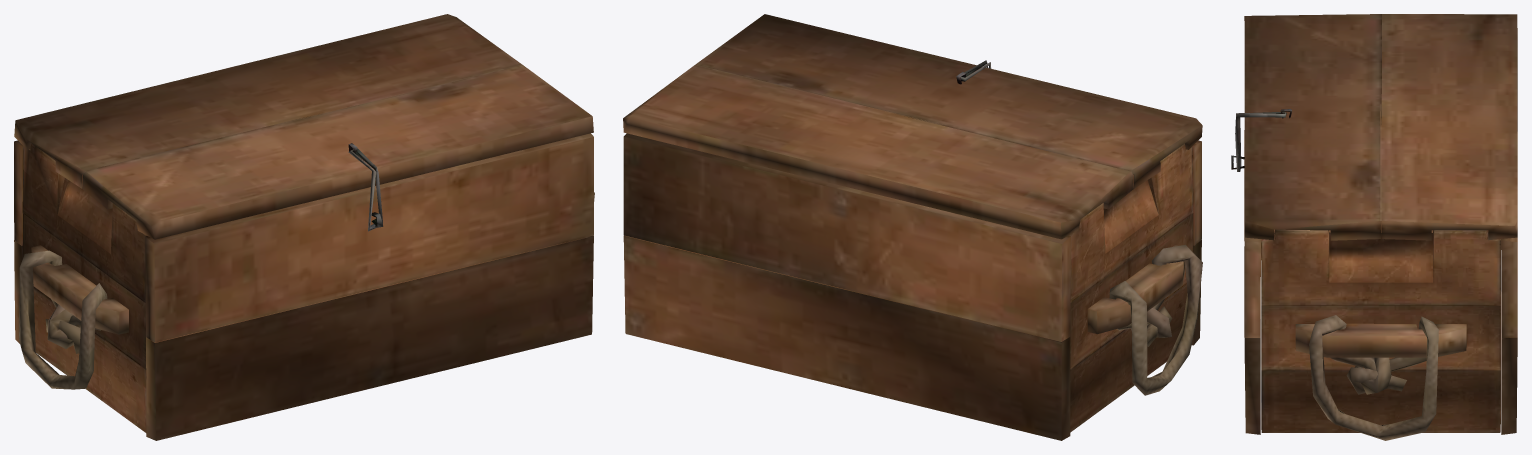
File: wooden_crate_01.glb
3 renders of one model, left to right at view 1: azimuth 30°, elevation 25°; view 2: azimuth 150°, elevation 25°; view 3: azimuth 270°, elevation 25°, orthographic. The views are drawn at different scales.
Parts seen in each view (by area): view 1: wooden_crate_01; view 2: wooden_crate_01; view 3: wooden_crate_01.
Boxes of the visible parts, x1,y1,x2,y2 form: wooden_crate_01: (14,14,594,440); wooden_crate_01: (623,14,1202,440); wooden_crate_01: (1231,14,1517,440).
Bounding box in the file's own units: 0.8222 × 0.3461 × 0.4051.
1 material, 1 textured.
